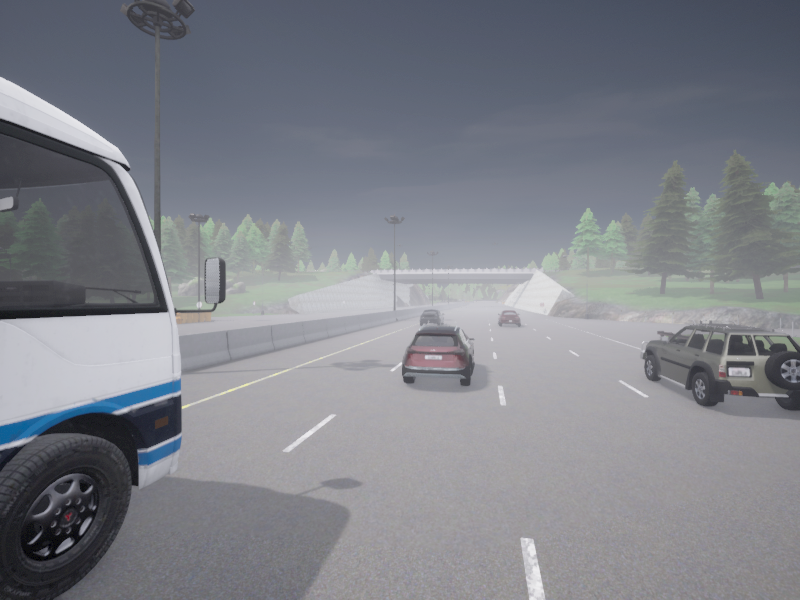vehicle: (0, 76, 225, 599), (640, 320, 799, 410), (402, 325, 474, 385), (497, 310, 521, 326), (420, 309, 444, 325)
